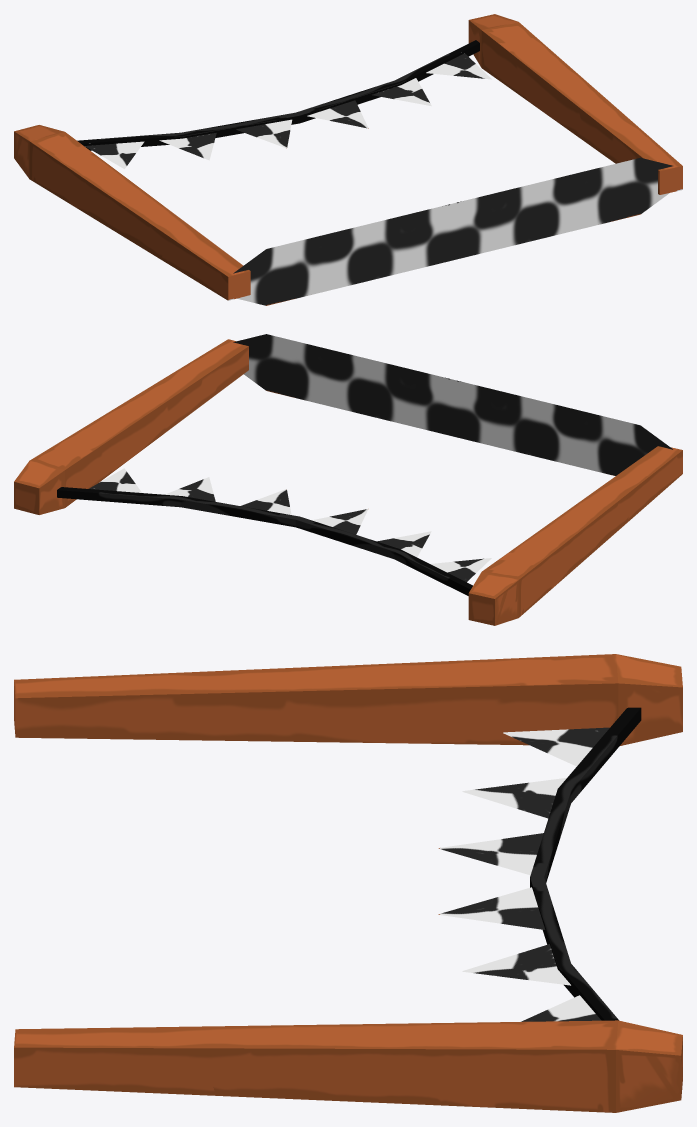
File: finishline.fbx
3 views of the same model, one above another, from view 1: azimuth 30°, elevation 25°; view 2: azimuth 150°, elevation 25°; view 3: azimuth 270°, elevation 25° (orthographic). The views are drawn at different scales.
Visible parts, largest first — view 1: Cube; view 2: Cube; view 3: Cube.
Part boxes in pixels (left/top/right/bottom): Cube: left=14, top=14, right=682, bottom=305; Cube: left=14, top=334, right=682, bottom=625; Cube: left=14, top=654, right=682, bottom=1112.
Size of the model in its own units: 9 by 1 by 6.42.
